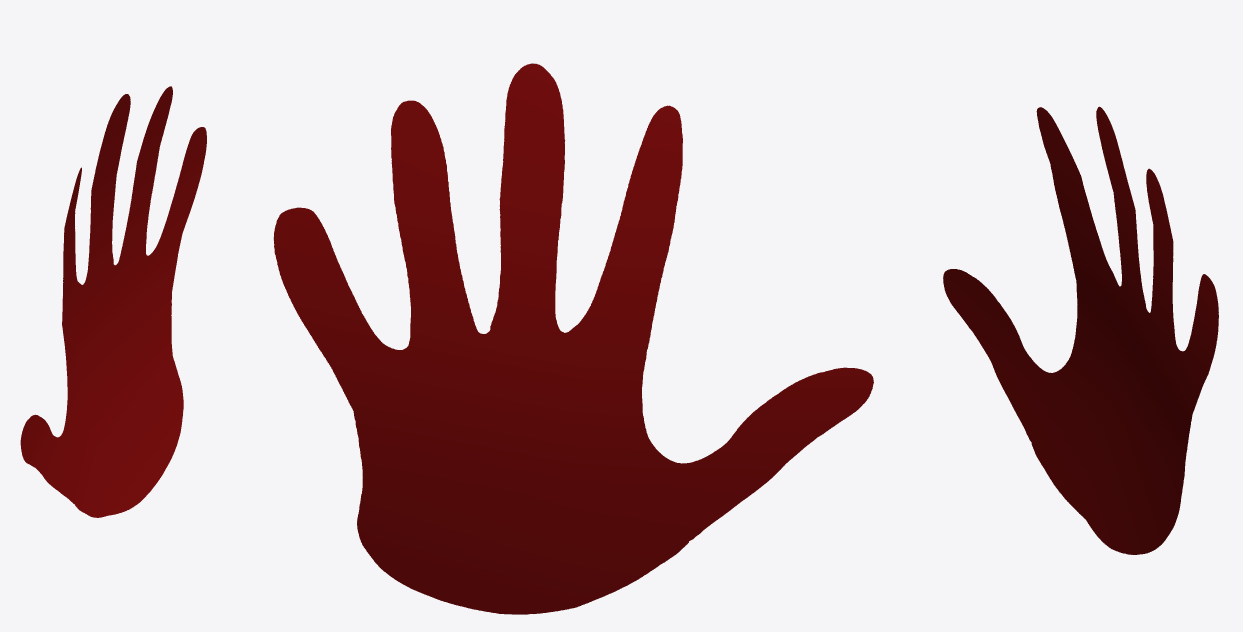
File: rlefthand.fbx
The picture shows the model from 3 angles, left to right: view 1: azimuth 30°, elevation 25°; view 2: azimuth 150°, elevation 25°; view 3: azimuth 270°, elevation 25°; orthographic projection. The views are drawn at different scales.
Visible parts, largest first — view 1: pSphere4; view 2: pSphere4; view 3: pSphere4.
Boxes of the visible parts, <box> form: pSphere4: <box>20,86,206,517</box>; pSphere4: <box>273,63,873,614</box>; pSphere4: <box>943,106,1218,554</box>.
Size of the model in its own units: 1.73 by 2.08 by 1.33.
